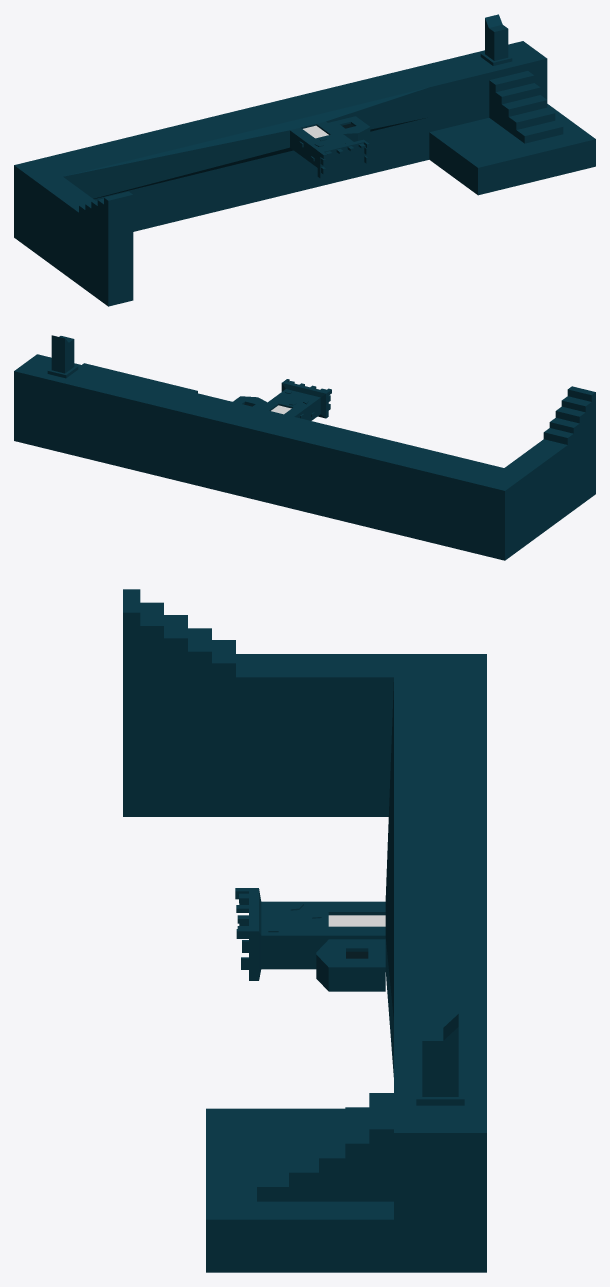
File: ponestemapaoaparecereentuspesadillas.fbx
3 views of the same model, one above another, from view 1: azimuth 30°, elevation 25°; view 2: azimuth 150°, elevation 25°; view 3: azimuth 270°, elevation 25° (orthographic). The views are drawn at different scales.
Visible parts, largest first — view 1: Cube.058; view 2: Cube.058; view 3: Cube.058.
Boxes of the visible parts, x1,y1,x2,y2 form: Cube.058: (14,14,595,306); Cube.058: (14,335,595,560); Cube.058: (123,589,486,1272).
Bounding box in the file's own units: 5276 × 1109 × 1693.
